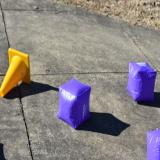cone: (0, 47, 31, 97)
cube: (57, 77, 91, 129), (126, 62, 157, 102), (146, 128, 160, 160)
